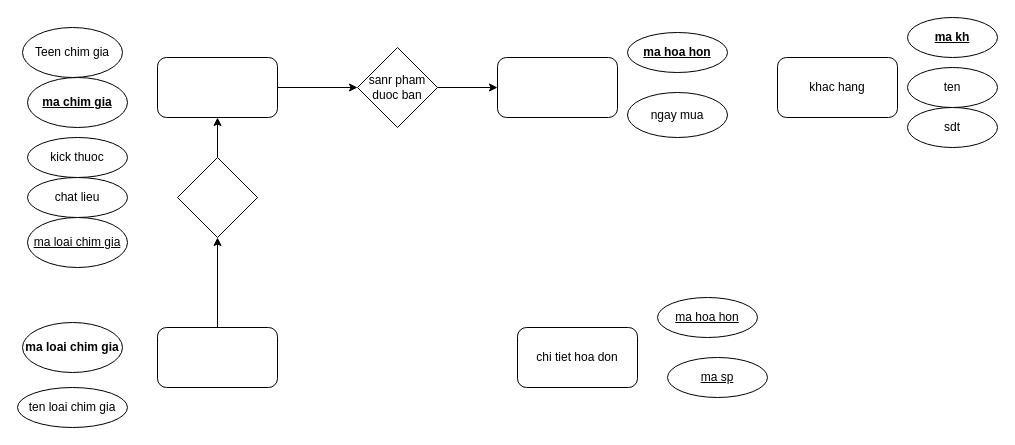
This 1015x445 diagram has some shape labels left out. Here are the shapes that lost their labels. From the top down, the centre of each, then its label:
At (217,87): "Chim gia".
At (557,87): "Hoa don".
At (217,357): "Loai chim gia".
